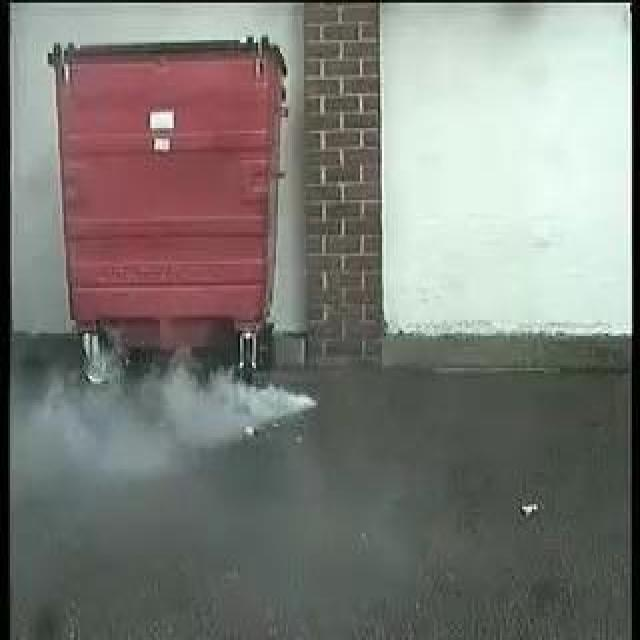Smoke: (32, 356, 314, 463)
